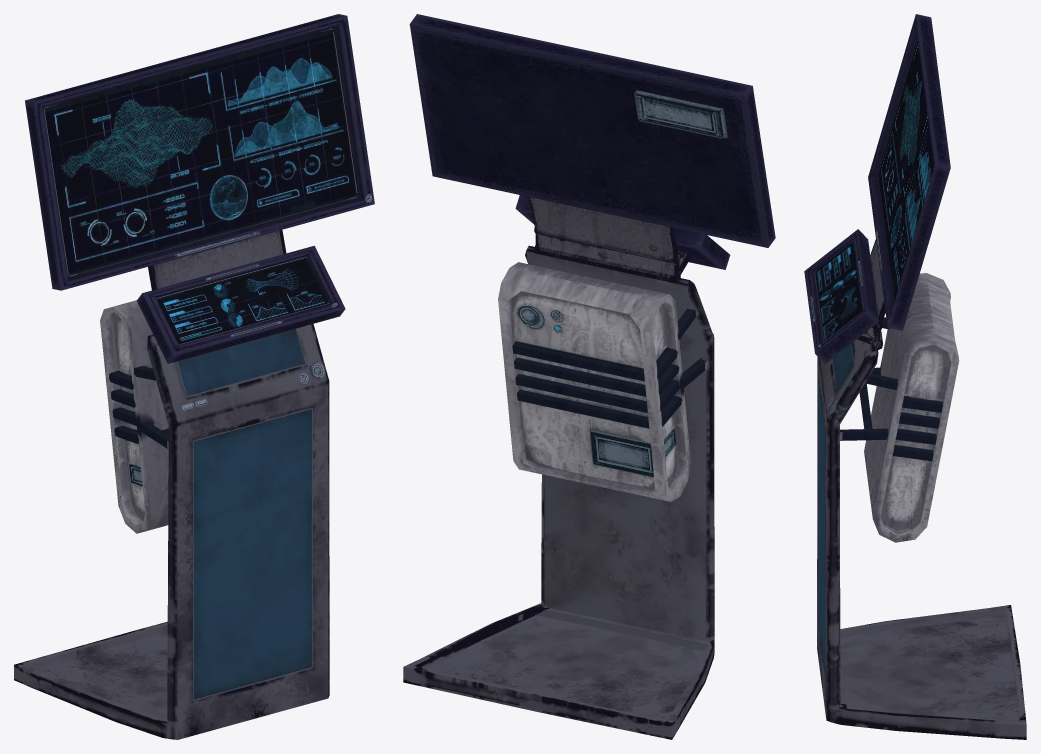
3 renders of one model, left to right at view 1: azimuth 30°, elevation 25°; view 2: azimuth 150°, elevation 25°; view 3: azimuth 270°, elevation 25°, orthographic. The views are drawn at different scales.
Visible parts, largest first — view 1: terminal_low_Terminal_0; view 2: terminal_low_Terminal_0; view 3: terminal_low_Terminal_0.
Part boxes in pixels (<box>): terminal_low_Terminal_0: <box>14,14,374,739</box>; terminal_low_Terminal_0: <box>403,14,775,739</box>; terminal_low_Terminal_0: <box>804,14,1026,739</box>.
Size of the model in its own units: 34.77 by 63.3 by 21.53.
Materials: 1 (1 with a texture image).
